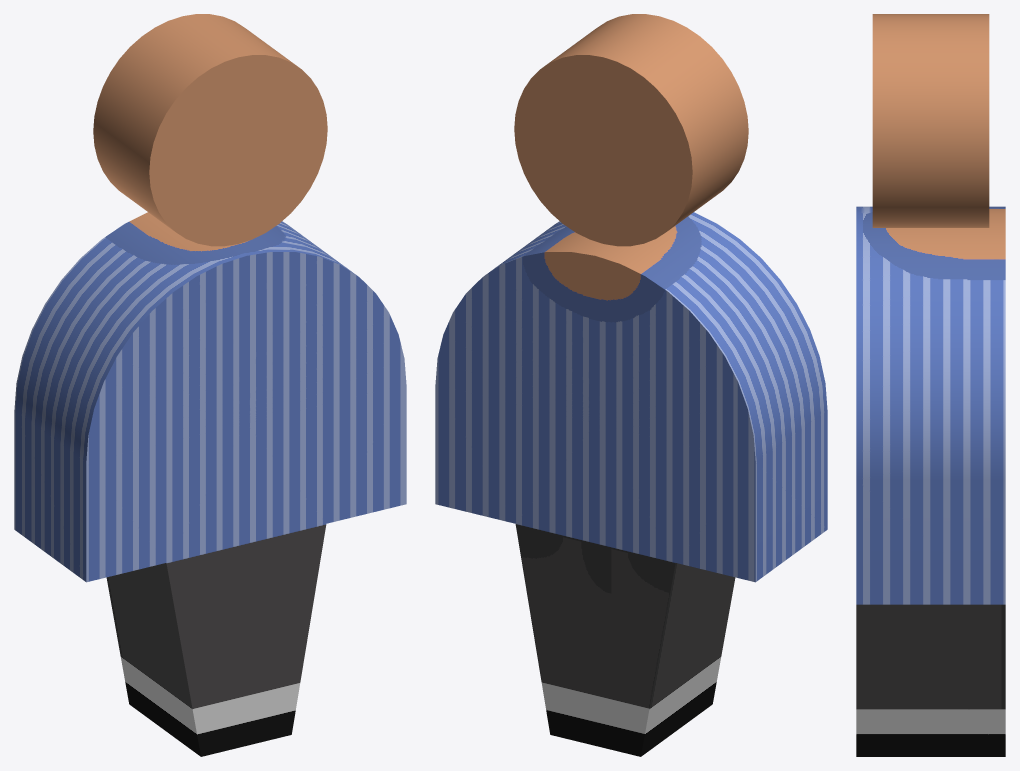
Rendered from hamid.fbx.
3 views of the same model, side by side, from view 1: azimuth 30°, elevation 25°; view 2: azimuth 150°, elevation 25°; view 3: azimuth 270°, elevation 25° (orthographic). The views are drawn at different scales.
Parts seen in each view (by area): view 1: hamid; view 2: hamid; view 3: hamid.
Part boxes in pixels (<box>): hamid: <box>14,14,406,756</box>; hamid: <box>435,14,827,756</box>; hamid: <box>856,14,1005,756</box>.
Size of the model in its own units: 1.13 by 2.31 by 0.4411.
Materials: 1 (1 with a texture image).
